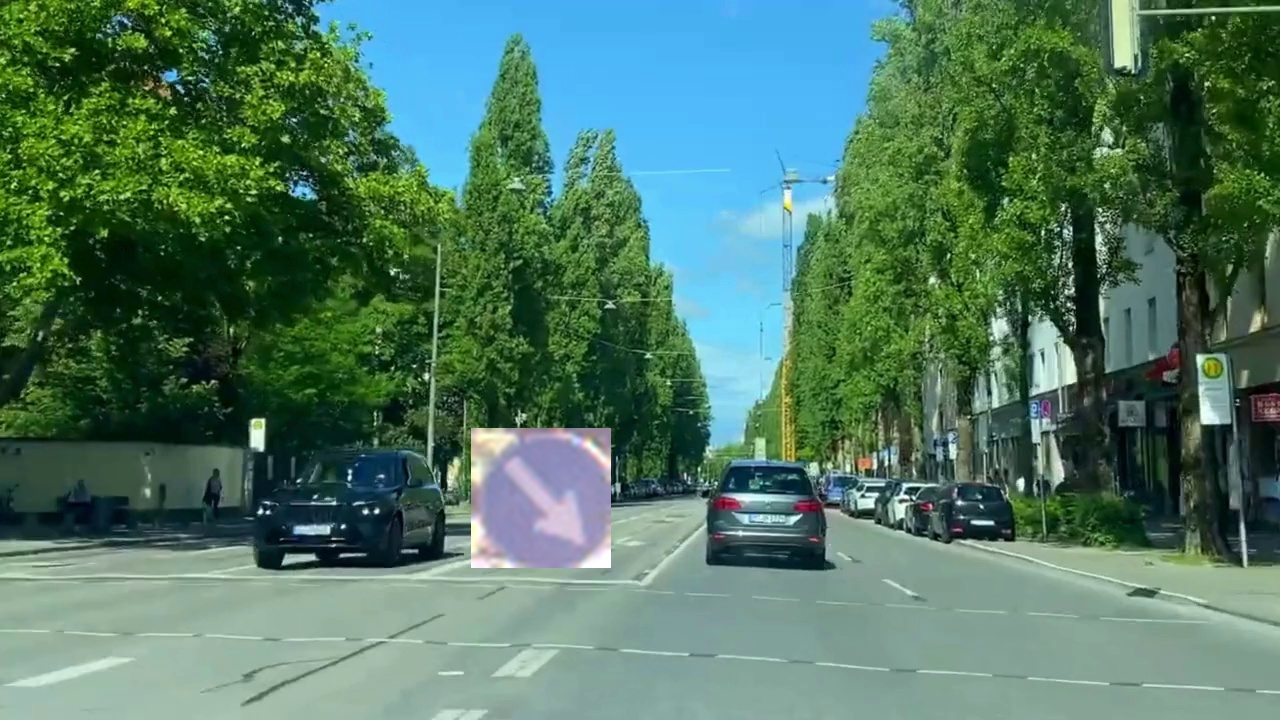Keep right: (471, 428, 611, 568)
